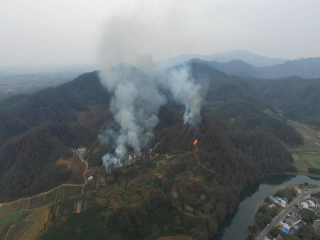smoke: (93, 17, 167, 173), (169, 68, 209, 131)
